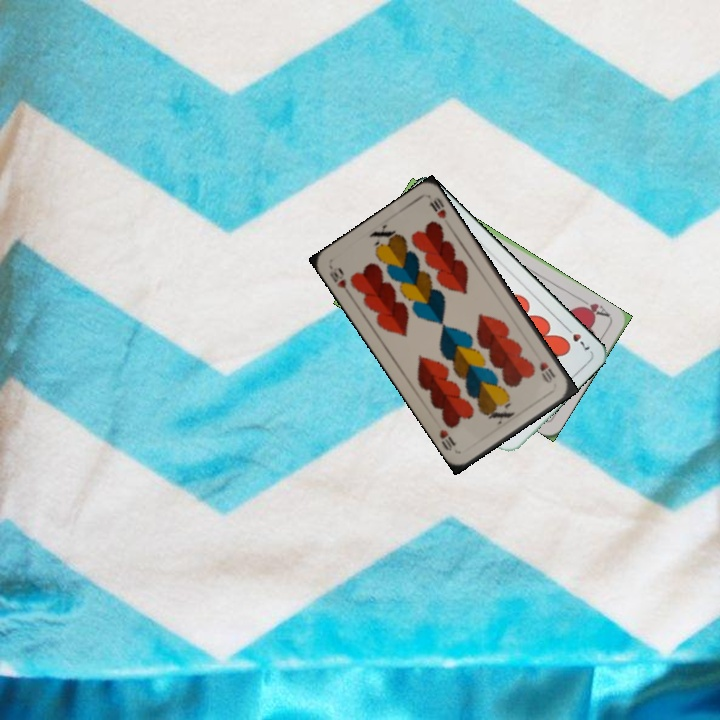H10: (325, 263, 349, 291), (535, 357, 558, 386)
H7: (561, 322, 593, 354)
HA: (574, 294, 613, 320)
